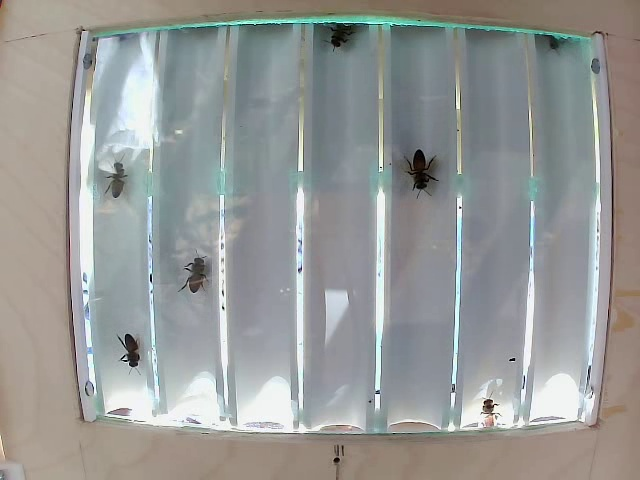bee: (182, 249, 218, 302), (332, 7, 362, 59), (96, 156, 137, 193), (117, 328, 145, 375), (406, 161, 441, 198)
